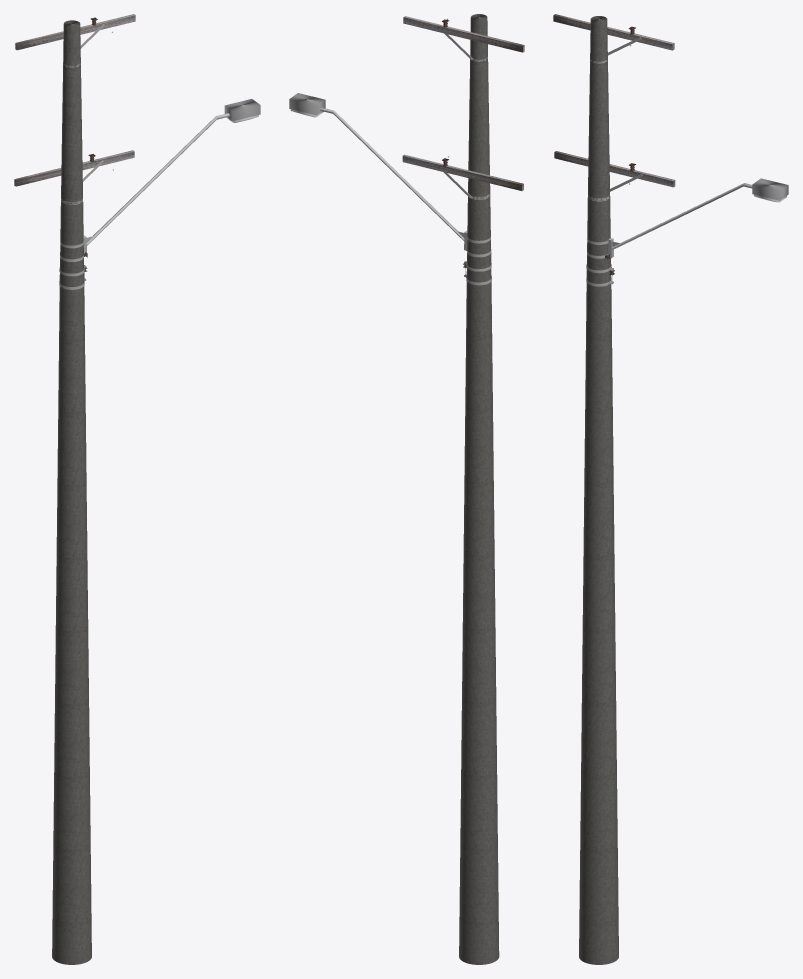
File: gdk_utility_pole.glb
3 renders of one model, left to right at view 1: azimuth 30°, elevation 25°; view 2: azimuth 150°, elevation 25°; view 3: azimuth 330°, elevation 25°, orthographic.
Visible parts, largest first — view 1: Cylinder.009; view 2: Cylinder.009; view 3: Cylinder.009.
Boxes of the visible parts, bbox=[...] form: Cylinder.009: bbox=[14, 14, 260, 964]; Cylinder.009: bbox=[289, 14, 524, 964]; Cylinder.009: bbox=[553, 14, 788, 964].
Size of the model in its own units: 1.97 by 7.5 by 0.2907.
6 materials, 2 textured.
